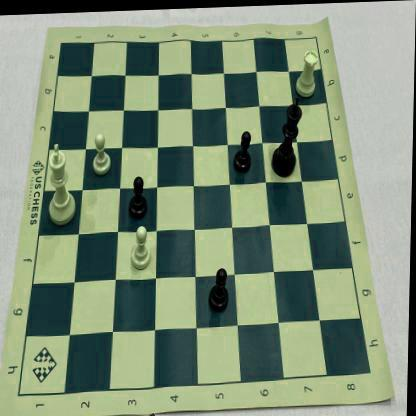black-king: (270, 98, 304, 180)
black-pawn: (206, 261, 234, 314), (127, 170, 152, 219), (232, 124, 254, 174)
white-king: (41, 136, 82, 224)
white-pawn: (129, 222, 156, 271), (89, 129, 115, 177)
white-rook: (296, 46, 321, 100)
